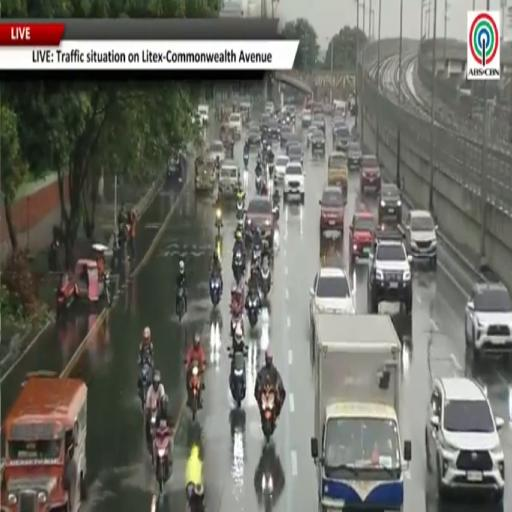car: (425, 377, 505, 503), (368, 230, 412, 314), (465, 283, 511, 359), (310, 267, 355, 325), (405, 210, 437, 268), (245, 197, 274, 246), (349, 212, 375, 264), (319, 186, 345, 236), (378, 184, 402, 225), (283, 160, 305, 204), (360, 155, 381, 194), (219, 160, 239, 199), (333, 126, 350, 151), (348, 141, 362, 171), (275, 155, 289, 182), (228, 112, 242, 139), (209, 140, 225, 163), (332, 118, 347, 141), (259, 114, 273, 138), (311, 131, 325, 155), (288, 144, 303, 166), (247, 125, 261, 148), (268, 120, 282, 142), (312, 111, 325, 133), (306, 125, 318, 148), (280, 125, 292, 148), (240, 99, 251, 122), (286, 133, 302, 148), (280, 108, 293, 125), (198, 105, 209, 125), (301, 108, 312, 127), (333, 101, 346, 117), (311, 102, 323, 118), (286, 105, 296, 123), (191, 112, 201, 125), (265, 102, 275, 115), (311, 120, 322, 130)
jeepney: (2, 373, 87, 511), (328, 152, 347, 197), (195, 153, 215, 193), (221, 123, 234, 157)
motorcycle: (155, 430, 172, 494), (230, 351, 246, 408), (260, 386, 275, 441), (189, 362, 201, 421), (140, 361, 152, 410), (186, 483, 205, 511), (260, 259, 271, 302), (231, 314, 244, 349), (247, 294, 260, 328), (209, 276, 221, 307), (233, 251, 244, 283), (176, 287, 185, 323), (148, 409, 157, 443), (215, 234, 223, 261), (215, 208, 223, 234), (251, 247, 261, 267), (234, 218, 244, 237), (236, 199, 244, 219), (256, 175, 262, 195), (273, 203, 279, 221), (268, 163, 274, 178), (215, 156, 220, 170), (244, 153, 248, 170)
truck: (311, 313, 411, 511)
